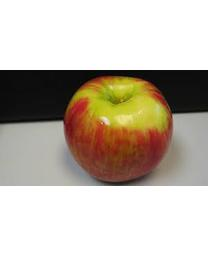apple: (63, 75, 173, 181)
